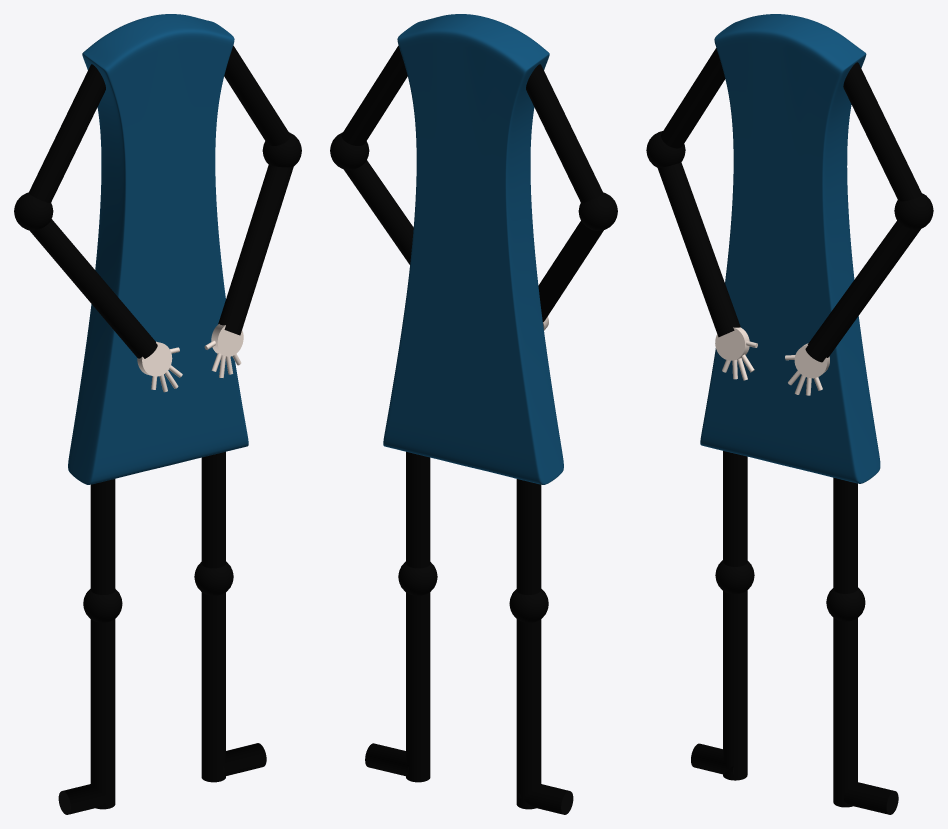
3 renders of one model, left to right at view 1: azimuth 30°, elevation 25°; view 2: azimuth 150°, elevation 25°; view 3: azimuth 330°, elevation 25°, orthographic.
Visible parts, largest first — view 1: MaleBody, leftForeLeg, rightForeLeg, LeftForeArm, RightForeArm, RightUpperArm, rightUpperLeg, LeftUpperLeg, LeftUpperArm, rightUpperArmSphere, rightFoot, leftFoot (+5 smaller); view 2: MaleBody, leftForeLeg, rightForeLeg, RightUpperArm, rightUpperLeg, LeftUpperLeg, LeftUpperArm, LeftForeArm, RightForeArm, rightUpperArmSphere, rightFoot, leftFoot (+3 smaller); view 3: MaleBody, rightForeLeg, RightForeArm, leftForeLeg, LeftForeArm, LeftUpperArm, LeftUpperLeg, rightUpperLeg, RightUpperArm, leftFoot, LeftUpperArmSphere, leftUpperLegSphere (+5 smaller).
Boxes of the visible parts, x1=… form: MaleBody: x1=68, y1=14, x2=248, y2=484; leftForeLeg: x1=201, y1=592, x2=225, y2=782; rightForeLeg: x1=90, y1=619, x2=115, y2=809; LeftForeArm: x1=218, y1=165, x2=293, y2=335; RightForeArm: x1=30, y1=219, x2=157, y2=358; RightUpperArm: x1=28, y1=64, x2=105, y2=202; rightUpperLeg: x1=90, y1=479, x2=115, y2=594; LeftUpperLeg: x1=201, y1=451, x2=225, y2=568; LeftUpperArm: x1=224, y1=45, x2=290, y2=145; rightUpperArmSphere: x1=14, y1=192, x2=53, y2=230; rightFoot: x1=58, y1=784, x2=113, y2=814; leftFoot: x1=223, y1=743, x2=266, y2=775; MaleBody: x1=383, y1=14, x2=563, y2=484; leftForeLeg: x1=406, y1=592, x2=430, y2=782; rightForeLeg: x1=516, y1=619, x2=541, y2=809; RightUpperArm: x1=526, y1=64, x2=603, y2=202; rightUpperLeg: x1=516, y1=479, x2=541, y2=594; LeftUpperLeg: x1=406, y1=451, x2=430, y2=568; LeftUpperArm: x1=341, y1=45, x2=407, y2=145; LeftForeArm: x1=344, y1=160, x2=413, y2=264; RightForeArm: x1=538, y1=221, x2=603, y2=321; rightUpperArmSphere: x1=578, y1=192, x2=617, y2=230; rightFoot: x1=518, y1=784, x2=573, y2=814; leftFoot: x1=365, y1=743, x2=408, y2=776; MaleBody: x1=700, y1=14, x2=880, y2=483; rightForeLeg: x1=723, y1=590, x2=747, y2=780; RightForeArm: x1=657, y1=162, x2=740, y2=337; leftForeLeg: x1=833, y1=618, x2=857, y2=807; LeftForeArm: x1=805, y1=221, x2=920, y2=362; LeftUpperArm: x1=843, y1=62, x2=921, y2=201; LeftUpperLeg: x1=833, y1=477, x2=857, y2=593; rightUpperLeg: x1=723, y1=451, x2=747, y2=566; RightUpperArm: x1=661, y1=48, x2=725, y2=148; leftFoot: x1=844, y1=782, x2=898, y2=814; LeftUpperArmSphere: x1=894, y1=193, x2=933, y2=229; leftUpperLegSphere: x1=826, y1=587, x2=865, y2=621.
Bounding box in the file's own units: 133 × 345 × 36.69.
